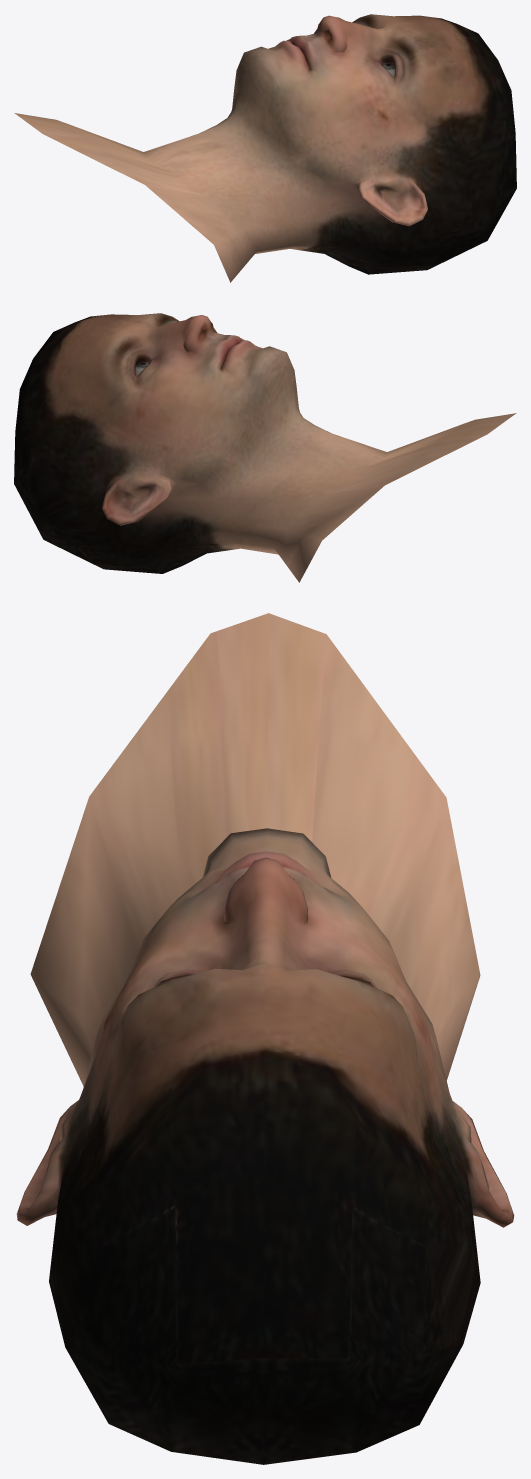
The model's file is head_british_paul.glb.
3 renders of one model, top to bottom at view 1: azimuth 30°, elevation 25°; view 2: azimuth 150°, elevation 25°; view 3: azimuth 270°, elevation 25°, orthographic. The views are drawn at different scales.
Bounding box in the file's own units: 18.01 × 9.47 × 8.14.
Materials: 1 (1 with a texture image).
